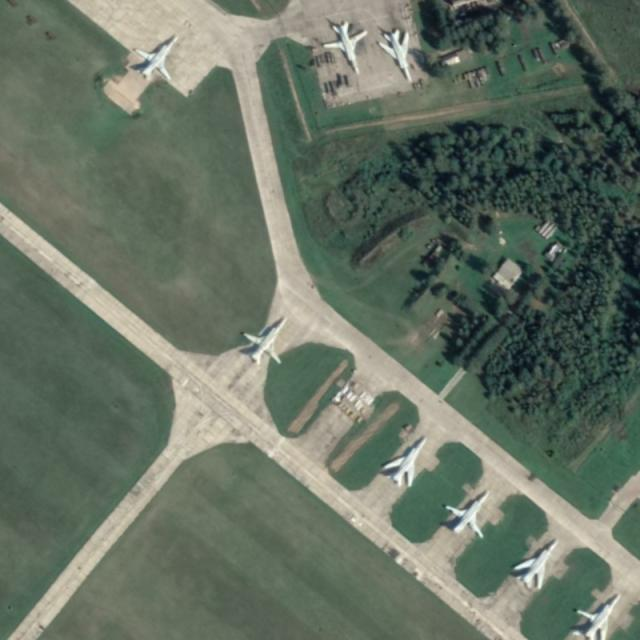fighter jet: (243, 316, 290, 371), (570, 589, 622, 637), (383, 436, 427, 491), (515, 534, 554, 596), (446, 483, 485, 540), (136, 36, 180, 84), (323, 21, 363, 70), (382, 34, 416, 78)
